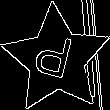P_S: (33, 30, 80, 88)
